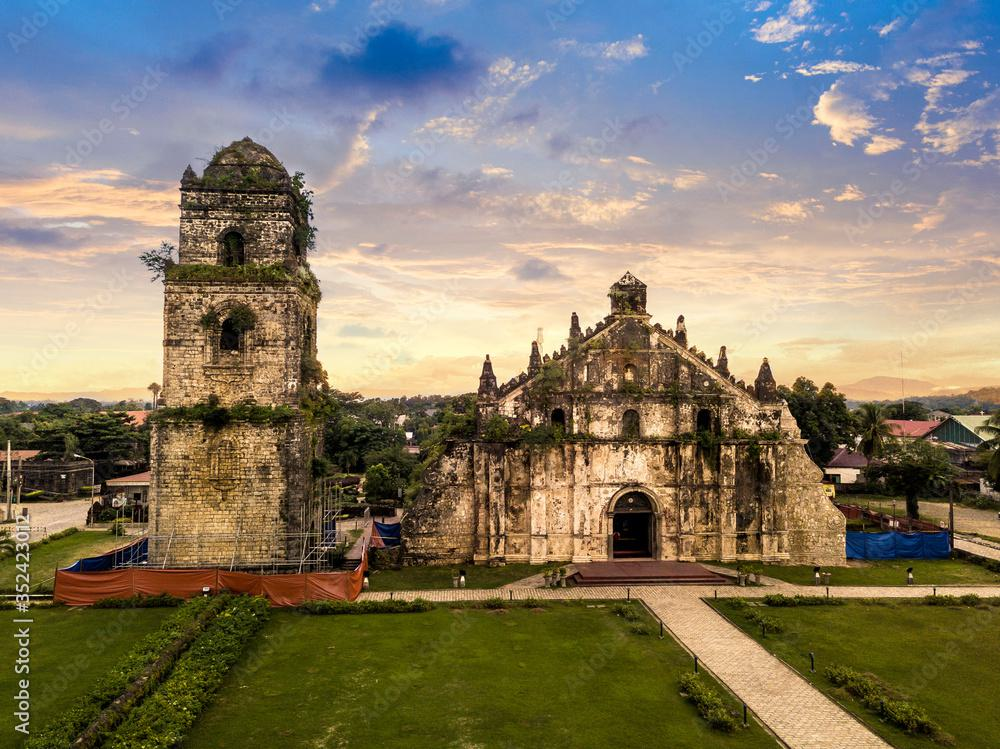Environmental Damage: (162, 257, 293, 291), (188, 168, 309, 204), (470, 414, 578, 448), (729, 423, 792, 449)
Paoay Church: (137, 124, 848, 569)
